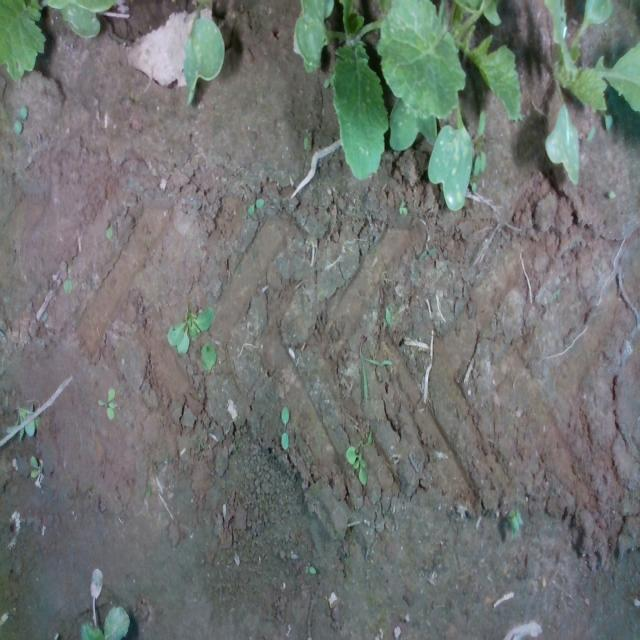weed: (95, 385, 115, 421), (12, 103, 28, 134), (279, 402, 289, 450), (246, 197, 264, 214), (302, 126, 310, 150), (398, 197, 408, 216)
